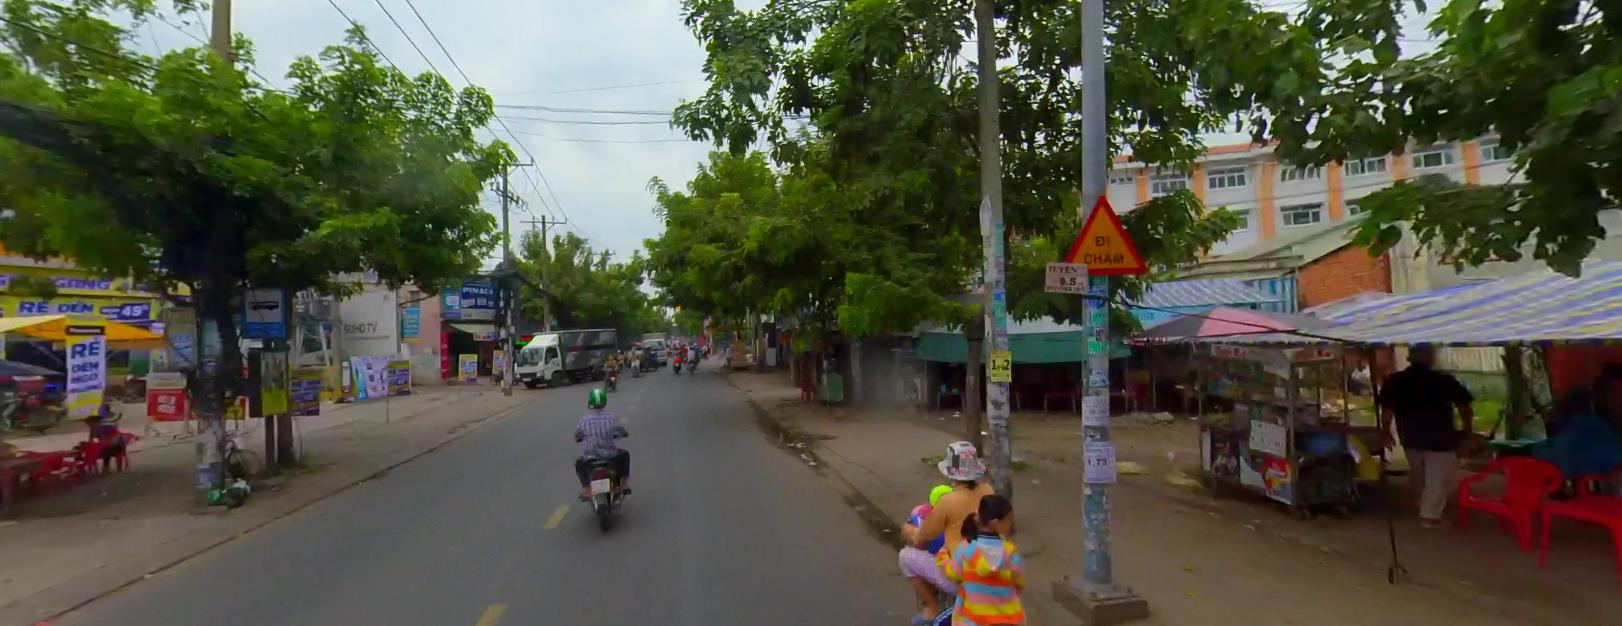Nguy hiem: (1054, 186, 1152, 277)
